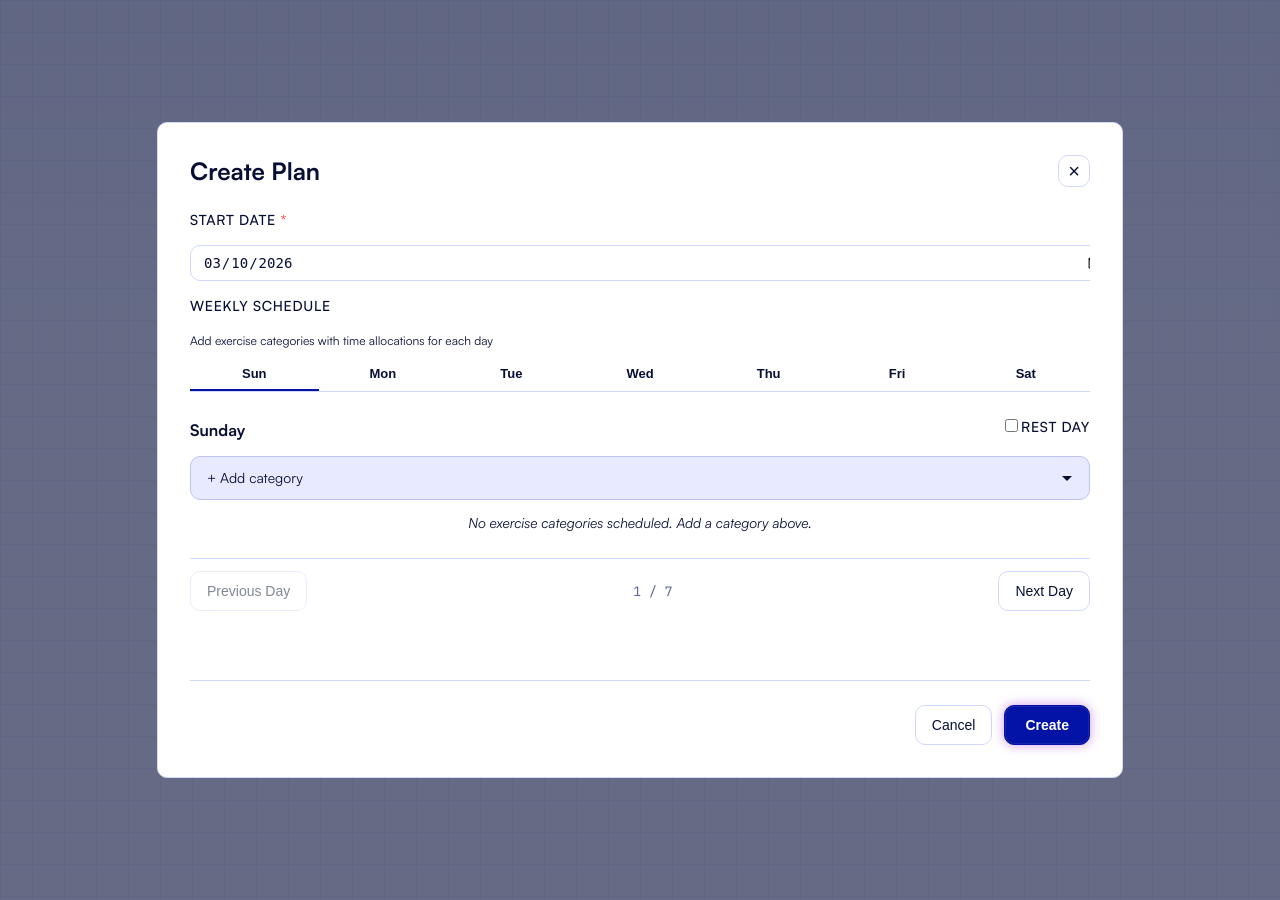
PlanFormModal › navigates with Previous/Next Day buttons
Expected: the button "Previous Day" is disabled, top-left (190, 572), bottom-right (307, 612)
Click the button "Next Day" at (1044, 592), box top-left (998, 572), bottom-right (1090, 612)
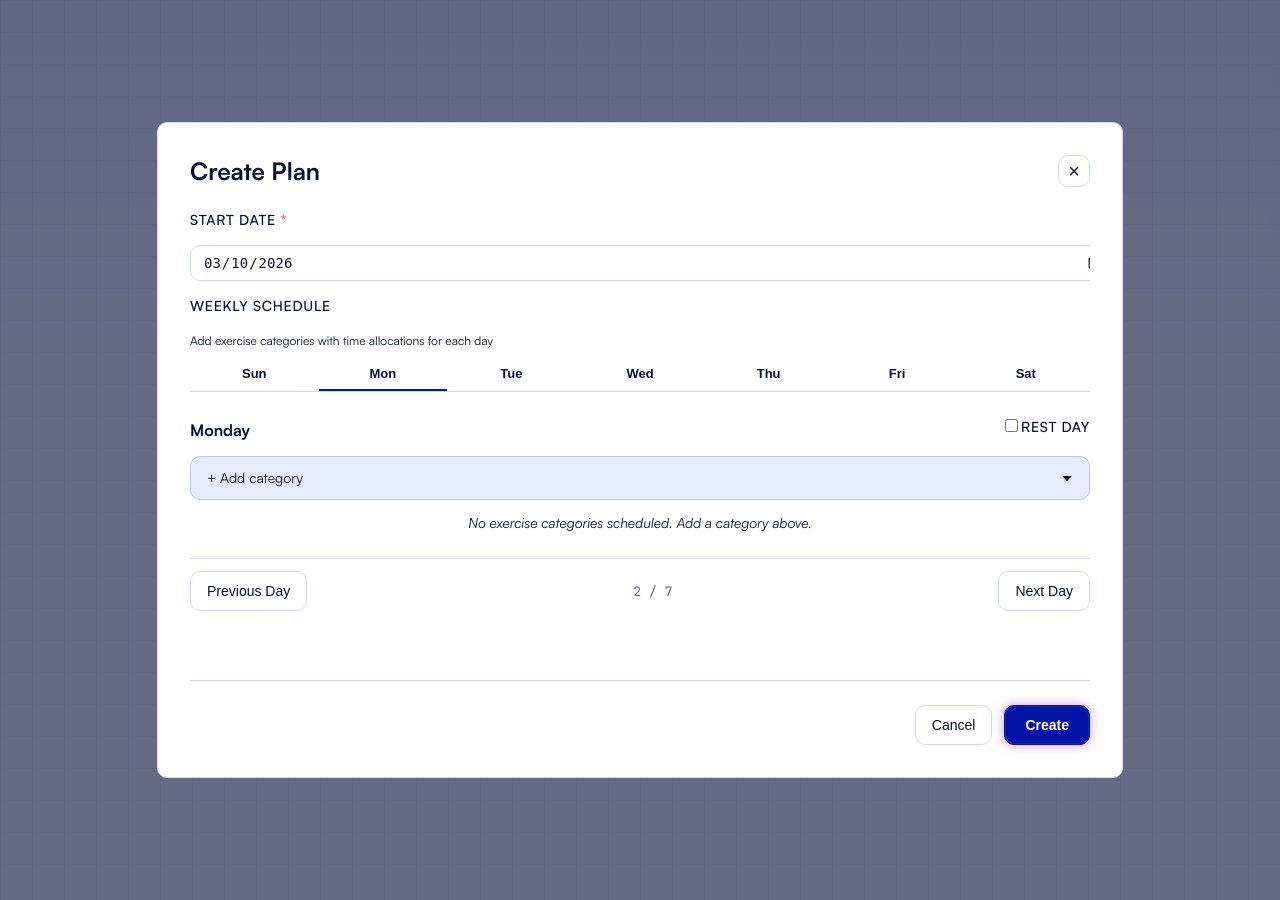
Expected: the heading "Monday" is shown, top-left (190, 419), bottom-right (250, 441)
Expected: the text "2 / 7" is shown, top-left (633, 583), bottom-right (672, 600)
Click the button "Previous Day" at (249, 592), box top-left (190, 572), bottom-right (307, 612)
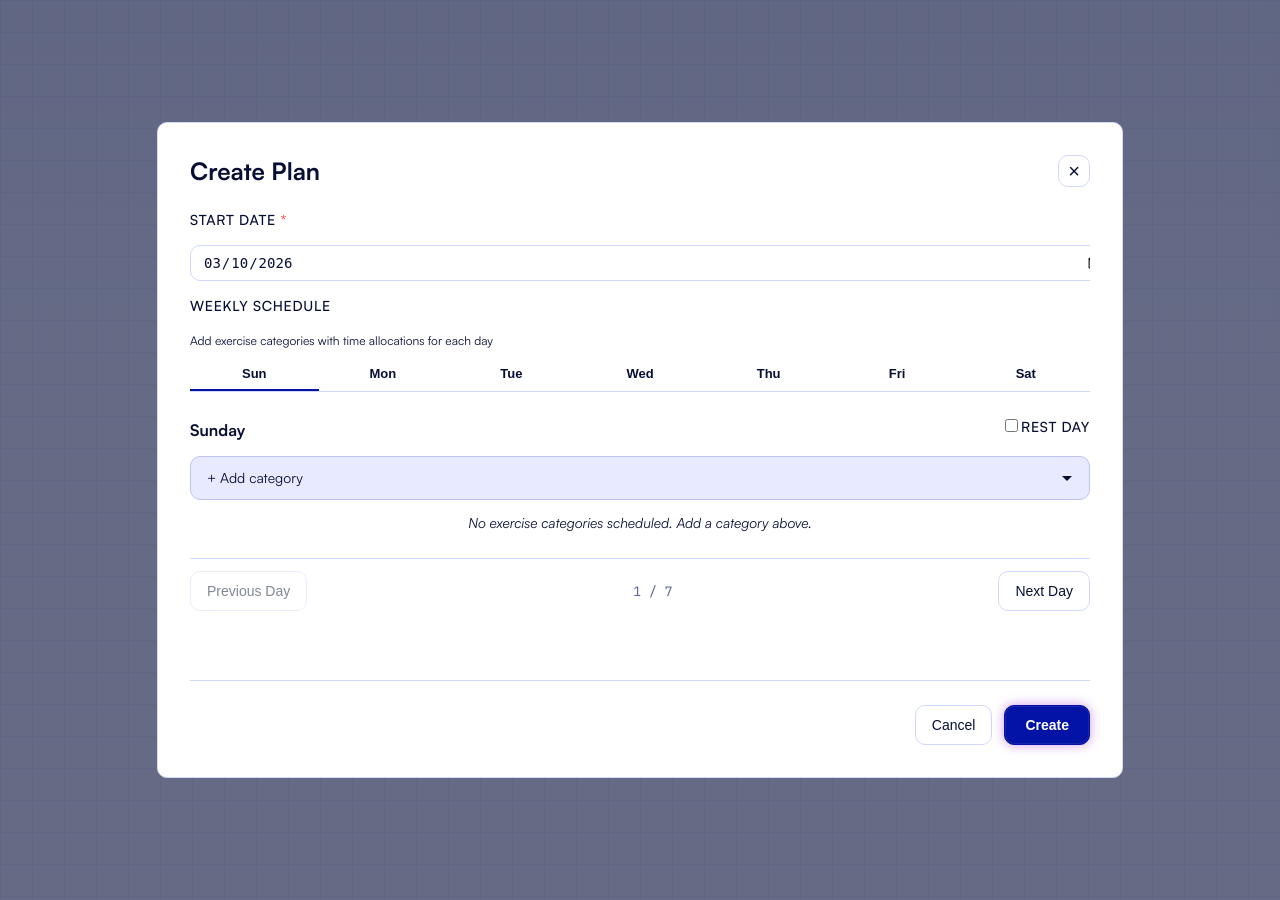
Expected: the heading "Sunday" is shown, top-left (190, 419), bottom-right (245, 441)
Expected: the text "1 / 7" is shown, top-left (633, 583), bottom-right (672, 600)
